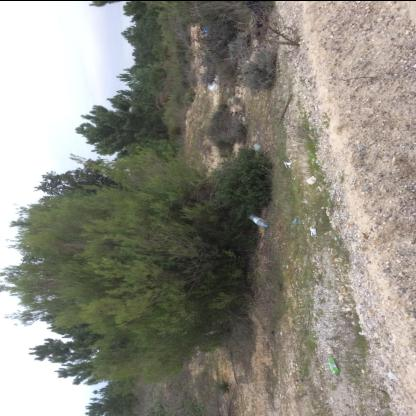karton: (328, 357, 339, 373)
plastik: (248, 212, 268, 226)
